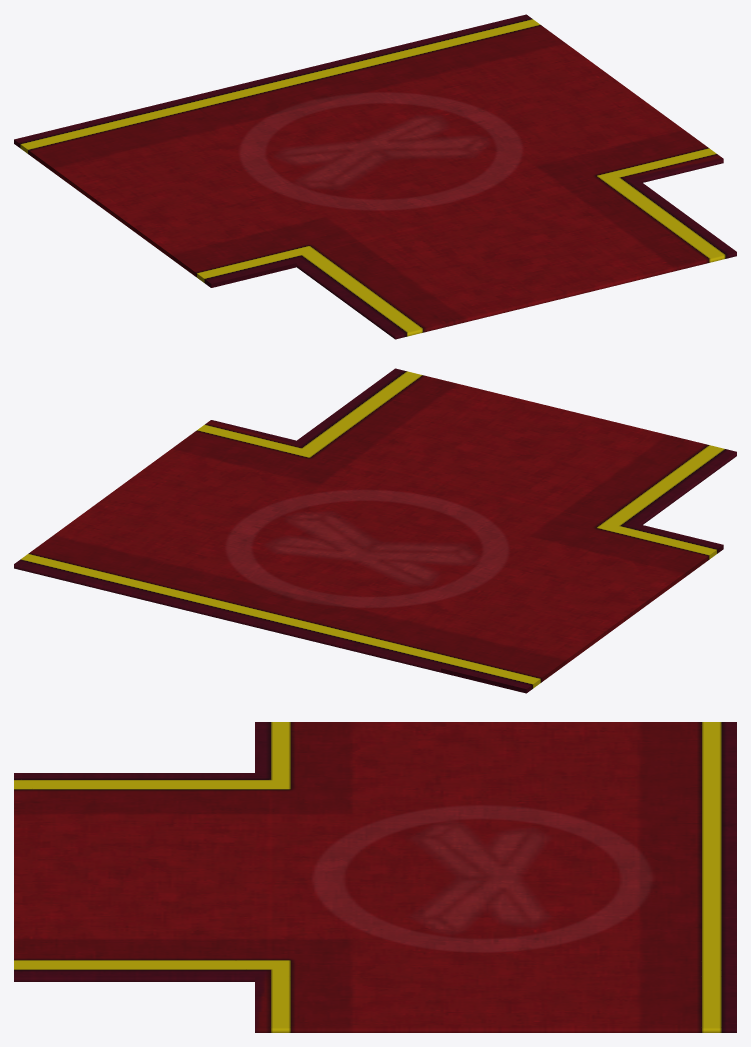
Rendered from e_castle_int_carpet_tshape.fbx.
The picture shows the model from 3 angles, top to bottom: view 1: azimuth 30°, elevation 25°; view 2: azimuth 150°, elevation 25°; view 3: azimuth 270°, elevation 25°; orthographic projection. The views are drawn at different scales.
Parts seen in each view (by area): view 1: e_castle_int_carpet_tshape; view 2: e_castle_int_carpet_tshape; view 3: e_castle_int_carpet_tshape.
Part boxes in pixels (x1,y1,x2,y2): e_castle_int_carpet_tshape: [14, 14, 736, 339]; e_castle_int_carpet_tshape: [14, 368, 736, 693]; e_castle_int_carpet_tshape: [14, 722, 736, 1032].
Bounding box in the file's own units: 3 × 0.0241 × 3.
